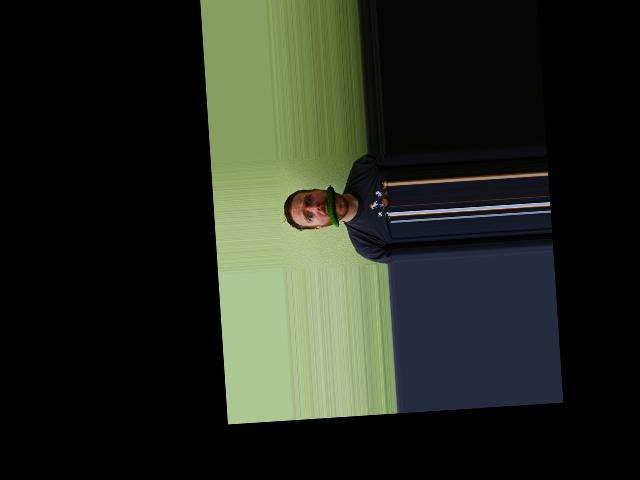cucumber: (326, 184, 339, 228)
